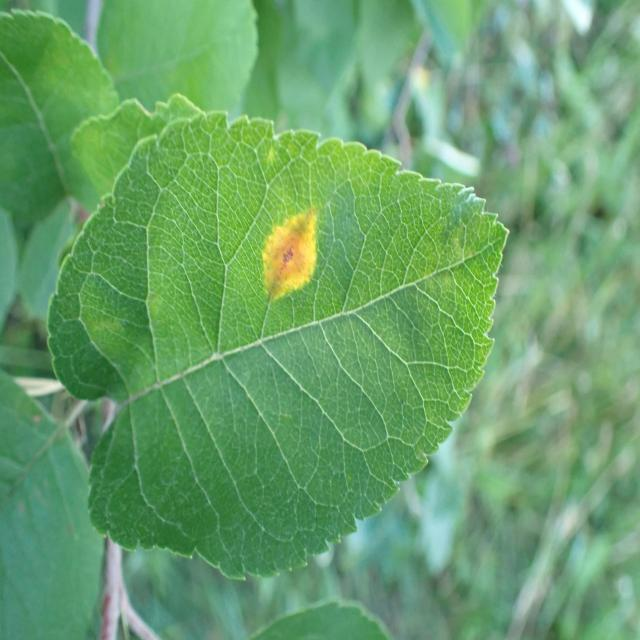Rust: (251, 193, 322, 315)
